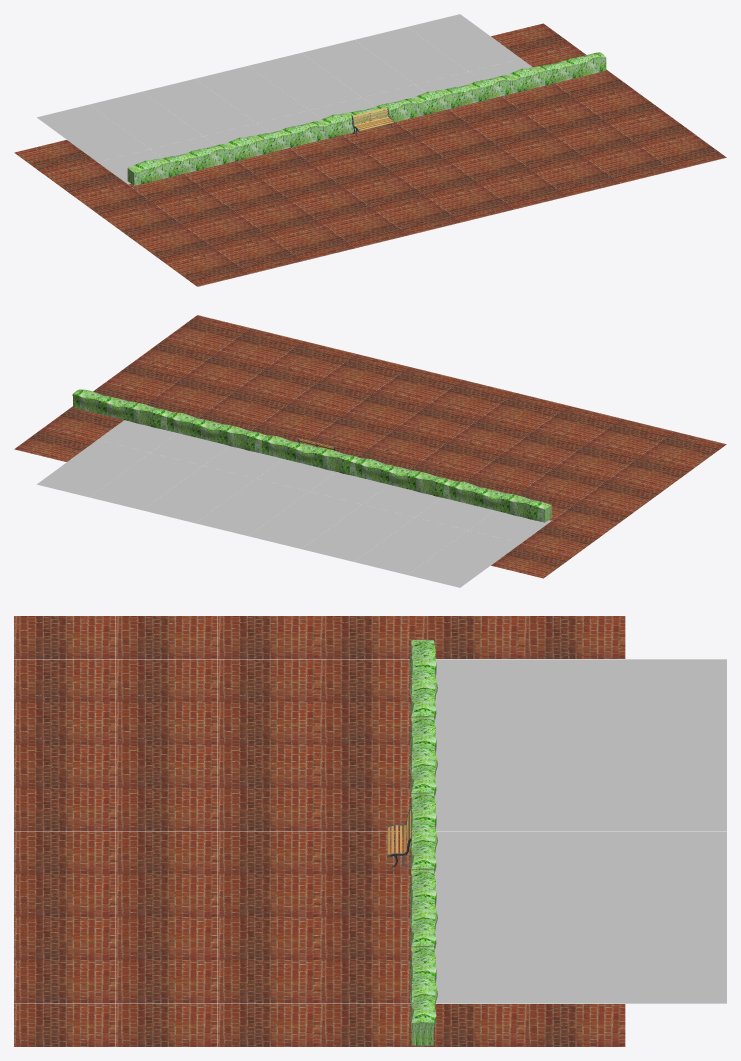
The model's file is Background_Nakaniwa_1.fbx.
3 views of the same model, one above another, from view 1: azimuth 30°, elevation 25°; view 2: azimuth 150°, elevation 25°; view 3: azimuth 270°, elevation 25° (orthographic). The views are drawn at different scales.
Visible parts, largest first — view 1: pCube21, pCube20, pCube19, pCube22, pCube18, pPlane31, pPlane33, pPlane37, pPlane38, pPlane42, pPlane43, pPlane44 (+61 smaller); view 2: pCube21, pCube19, pCube20, pCube18, pCube22, pPlane33, pPlane34, pPlane38, pPlane40, pPlane41, pPlane45, pPlane47 (+61 smaller); view 3: pPlane21, pPlane22, pPlane23, pPlane25, pPlane26, pPlane28, pPlane29, pPlane30, pPlane31, pPlane32, pPlane33, pPlane35 (+61 smaller).
Part boxes in pixels (bbox=[...]): pCube21: bbox=[127, 144, 229, 185]; pCube20: bbox=[506, 52, 606, 93]; pCube19: bbox=[411, 75, 511, 116]; pCube22: bbox=[223, 121, 323, 162]; pCube18: bbox=[317, 98, 416, 139]; pPlane31: bbox=[371, 142, 453, 177]; pPlane33: bbox=[159, 194, 241, 229]; pPlane37: bbox=[582, 90, 665, 125]; pPlane38: bbox=[530, 103, 612, 138]; pPlane42: bbox=[242, 203, 325, 238]; pPlane43: bbox=[189, 216, 272, 251]; pPlane44: bbox=[136, 229, 219, 264]; pCube21: bbox=[449, 481, 551, 522]; pCube19: bbox=[167, 412, 267, 453]; pCube20: bbox=[72, 389, 172, 430]; pCube18: bbox=[262, 435, 361, 476]; pCube22: bbox=[355, 458, 455, 499]; pPlane33: bbox=[530, 463, 612, 498]; pPlane34: bbox=[582, 476, 665, 511]; pPlane38: bbox=[159, 372, 241, 407]; pPlane40: bbox=[371, 424, 453, 459]; pPlane41: bbox=[348, 389, 430, 424]; pPlane45: bbox=[242, 363, 325, 398]; pPlane47: bbox=[136, 337, 219, 372]; pPlane21: bbox=[523, 831, 625, 874]; pPlane22: bbox=[523, 702, 625, 745]; pPlane23: bbox=[523, 659, 625, 702]; pPlane25: bbox=[523, 917, 625, 960]; pPlane26: bbox=[523, 874, 625, 917]; pPlane28: bbox=[523, 960, 625, 1003]; pPlane29: bbox=[523, 745, 625, 788]; pPlane30: bbox=[523, 788, 625, 831]; pPlane31: bbox=[218, 831, 319, 874]; pPlane32: bbox=[218, 702, 319, 745]; pPlane33: bbox=[218, 659, 319, 702]; pPlane35: bbox=[218, 917, 319, 960].
Size of the model in its own units: 240 by 8 by 168.
